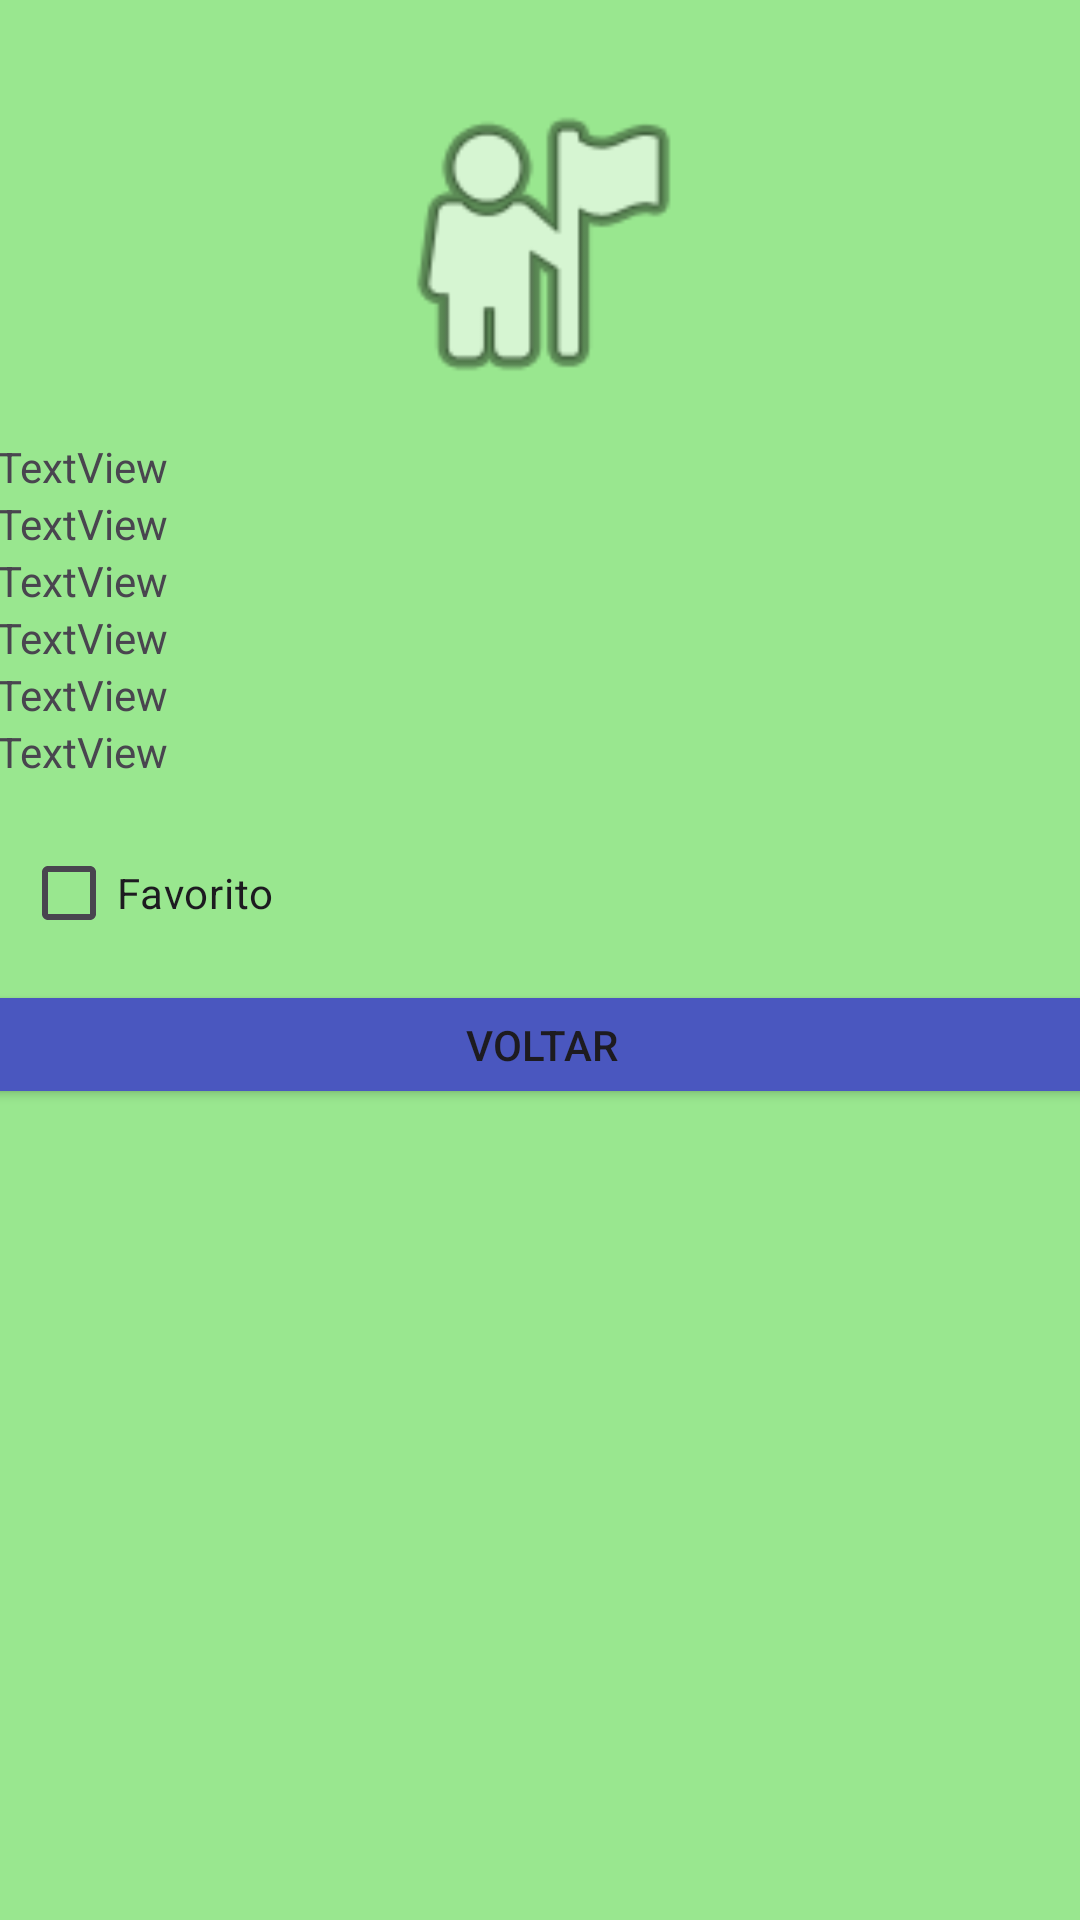

Locate icon controls on the screen. Image size 1080×1920, boxes as [x1=x1, y1=y1, x2=x2, y2=y2].
myplaces: [x1=417, y1=118, x2=670, y2=370]
